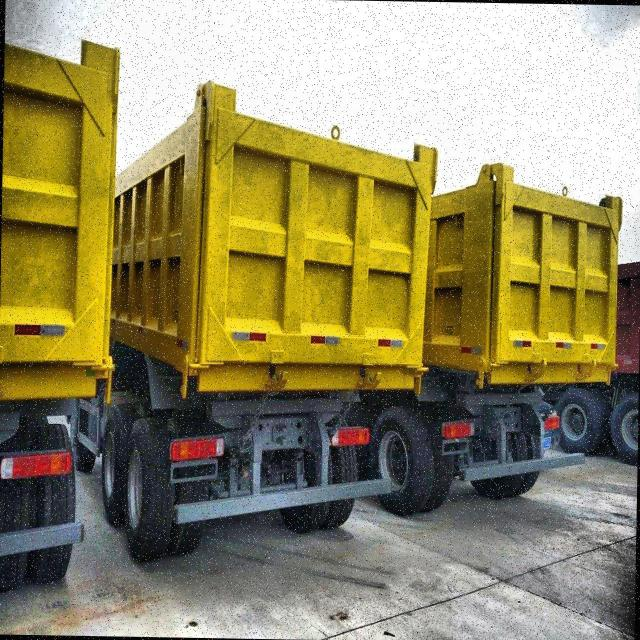dump_truck: (78, 71, 442, 579), (377, 158, 625, 518)
